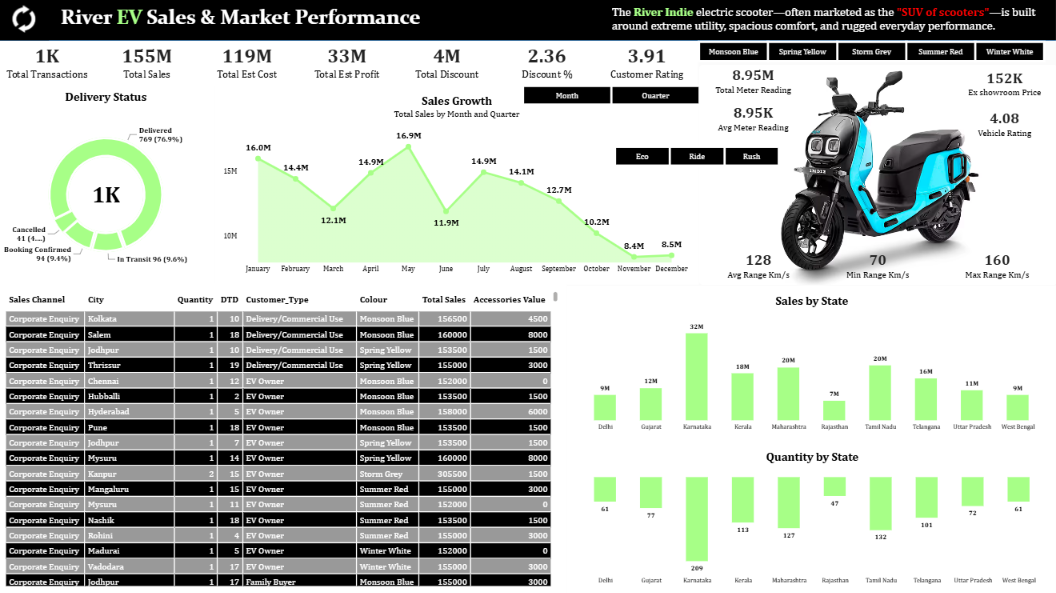

The dashboard page shown, as its layout file describes it:
{"tool":"powerbi","page":{"name":"Page 1","canvas":[1920,1080],"ordinal":0},"visuals":[{"type":"cardVisual","fields":{"Data":["Transactions.Total Transactions","Transactions.Total Sales","Transactions.Total Est Cost","Transactions.Total Est Profit","Transactions.Total Discount Given","Transactions.Total Discount Percentage","Transactions.Customer Rating"]},"box":[0,76,1268.6,83.2],"z":0},{"type":"cardVisual","fields":{"Data":["Min(Transactions.Image URL)"]},"box":[1270.5,122.1,649.5,399.1],"z":0,"group":"g1"},{"type":"shape","box":[0,0,1918.2,77.8],"z":1000},{"type":"cardVisual","fields":{"Data":["Transactions.Ex showroom price of Individual Vehicle"]},"box":[1727.7,120.1,191.9,72.4],"z":2000,"group":"g2"},{"type":"lineChart","title":"Sales Growth","fields":{"Category":["Transactions.Order_Date.Variation.Date Hierarchy.Month","Transactions.Order_Date.Variation.Date Hierarchy.Quarter"],"Y":["Transactions.Total Sales"]},"box":[394.5,159.3,875.9,360.1],"z":2000},{"type":"advancedSlicerVisual","fields":{"Values":["Date Axis.Date Axis"]},"box":[930.2,157.4,365.6,38],"z":3000},{"type":"advancedSlicerVisual","fields":{"Values":["Transactions.Colour"]},"box":[1248.7,77.8,669.6,39.8],"z":4000},{"type":"cardVisual","fields":{"Data":["Transactions.Average Rating"]},"box":[1727.7,192.5,191.9,75.7],"z":4000,"group":"g2"},{"type":"cardVisual","fields":{"Data":["Transactions.Average Range","Transactions.Minimum Range","Transactions.Maximum Range"]},"box":[1270.4,454.5,649.7,62.2],"z":4000,"group":"g1"},{"type":"actionButton","box":[0,0,97.7,77.8],"z":5000},{"type":"cardVisual","fields":{"Data":["Transactions.Total Odometer Reading","Transactions.Average Odometer Reading"]},"box":[1269.7,118.3,197.3,135.7],"z":5000,"group":"g1"},{"type":"textbox","box":[97.7,12.7,803.5,56.1],"z":6000},{"type":"donutChart","title":"Delivery Status","fields":{"Category":["Transactions.Delivery_Status"],"Y":["CountNonNull(Transactions.Delivery_Status)"]},"box":[0,152,394.5,369.2],"z":7000},{"type":"lineClusteredColumnComboChart","title":"Sales by State","fields":{"Category":["Transactions.State"],"Y":["Transactions.Total Sales"]},"box":[1031.5,521.2,886.7,282.3],"z":8000},{"type":"group","id":"g1","title":"Group 2","box":[1269.7,118.3,650.4,402.9],"z":9000},{"type":"group","id":"g2","title":"Group 1","box":[1727.7,120.1,191.9,149.9],"z":9000,"group":"g1"},{"type":"clusteredColumnChart","title":"Quantity by State","fields":{"Category":["Transactions.State"],"Y":["CountNonNull(Transactions.Quantity)"]},"box":[1031.5,803.5,888.5,276.9],"z":10000},{"type":"tableEx","fields":{"Values":["Transactions.Sales_Channel","Transactions.City","Sum(Transactions.Quantity)","Sum(Transactions.Days_To_Delivery)","Transactions.Customer_Type","Transactions.Colour","Transactions.Total Sales","Transactions.Accessories Value"]},"box":[0,517.6,1031.5,562.8],"z":11000},{"type":"advancedSlicerVisual","fields":{"Values":["Transactions.Preferred_Riding_Mode"]},"box":[1096.7,267.8,343.8,38],"z":12000},{"type":"textbox","box":[1112.9,12.7,805.3,54.3],"z":12001}]}

Visuals, with their boxes in screenshot pixels (x1, y1, x2, y2), scaled from the page's 1920x1080 canvas onto the 1056x593 screenshot:
cardVisual - Transactions.Total Transactions x Transactions.Total Sales: 0/42/698/87
cardVisual - Min(Transactions.Image URL): 699/67/1055/286
shape: 0/0/1055/43
cardVisual - Transactions.Ex showroom price of Individual Vehicle: 950/66/1055/106
"Sales Growth" lineChart: 217/87/699/285
advancedSlicerVisual - Date Axis.Date Axis: 512/86/713/107
advancedSlicerVisual - Transactions.Colour: 687/43/1055/65
cardVisual - Transactions.Average Rating: 950/106/1055/147
cardVisual - Transactions.Average Range x Transactions.Minimum Range: 699/250/1055/284
actionButton: 0/0/54/43
cardVisual - Transactions.Total Odometer Reading x Transactions.Average Odometer Reading: 698/65/807/139
textbox: 54/7/496/38
"Delivery Status" donutChart: 0/83/217/286
"Sales by State" lineClusteredColumnComboChart: 567/286/1055/441
"Group 2" group: 698/65/1055/286
"Group 1" group: 950/66/1055/148
"Quantity by State" clusteredColumnChart: 567/441/1055/592
tableEx - Transactions.Sales_Channel x Transactions.City: 0/284/567/592
advancedSlicerVisual - Transactions.Preferred_Riding_Mode: 603/147/792/168
textbox: 612/7/1055/37
